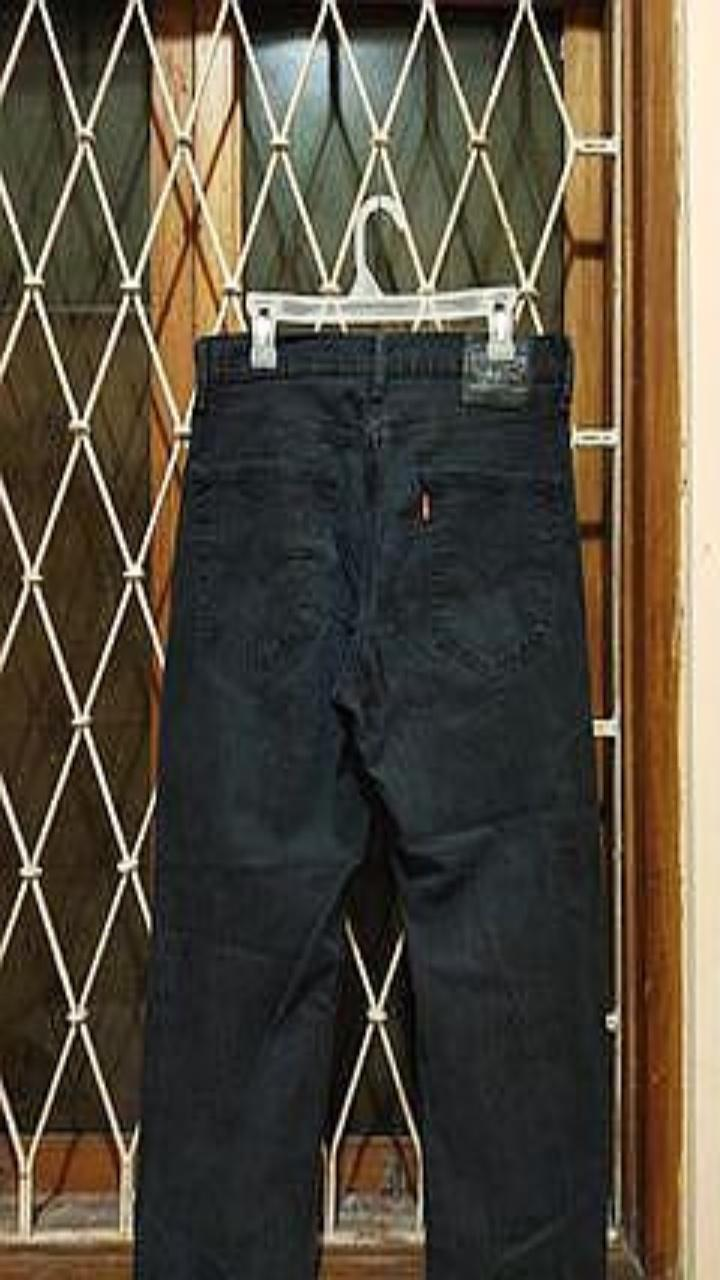Jeans: (134, 331, 608, 1279)
